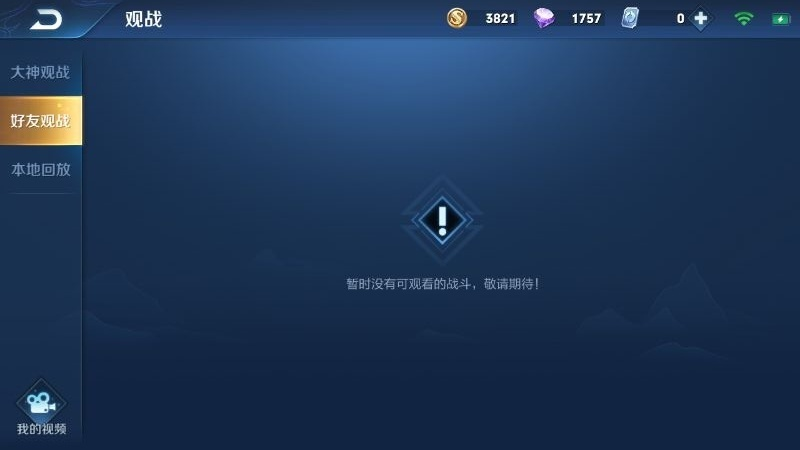return: (18, 1, 78, 33)
tag: (2, 55, 74, 88), (1, 155, 76, 185)
